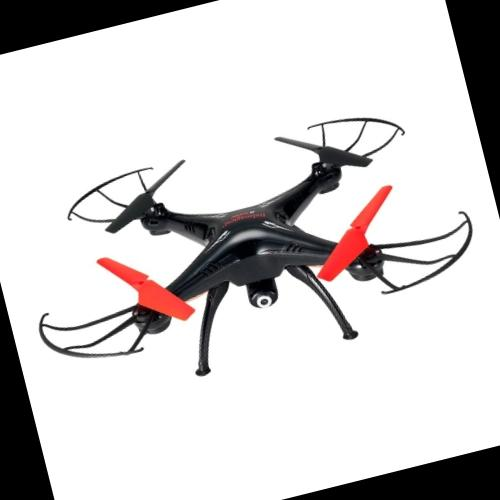drone: (0, 96, 500, 401)
